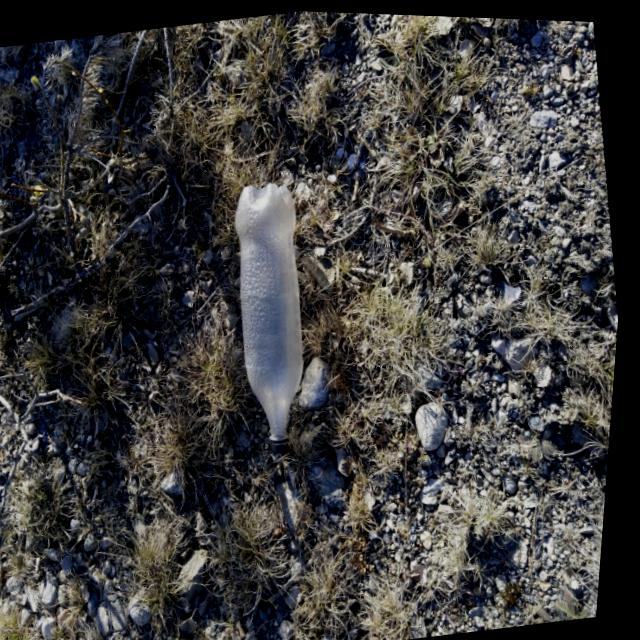anorganik: (213, 166, 334, 454)
